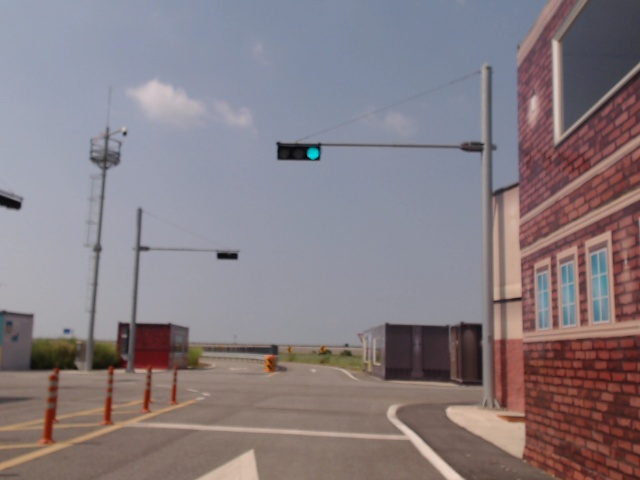green_3: (277, 144, 321, 161)
